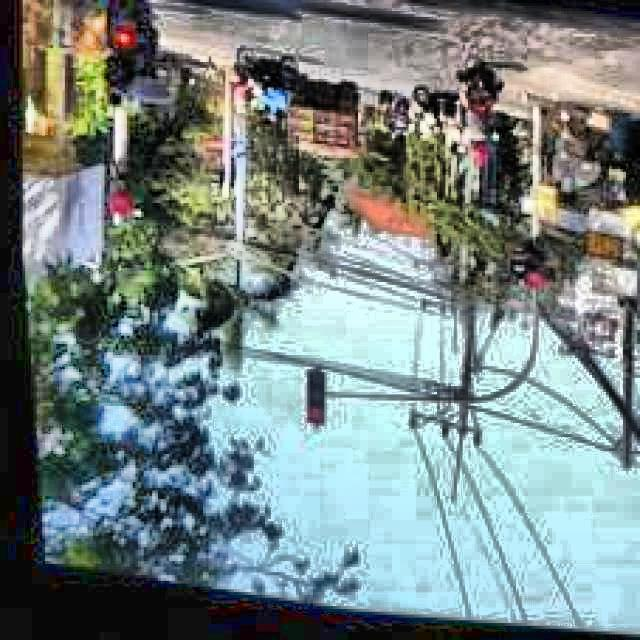red: (99, 166, 132, 228), (300, 375, 326, 437), (520, 236, 546, 294)
